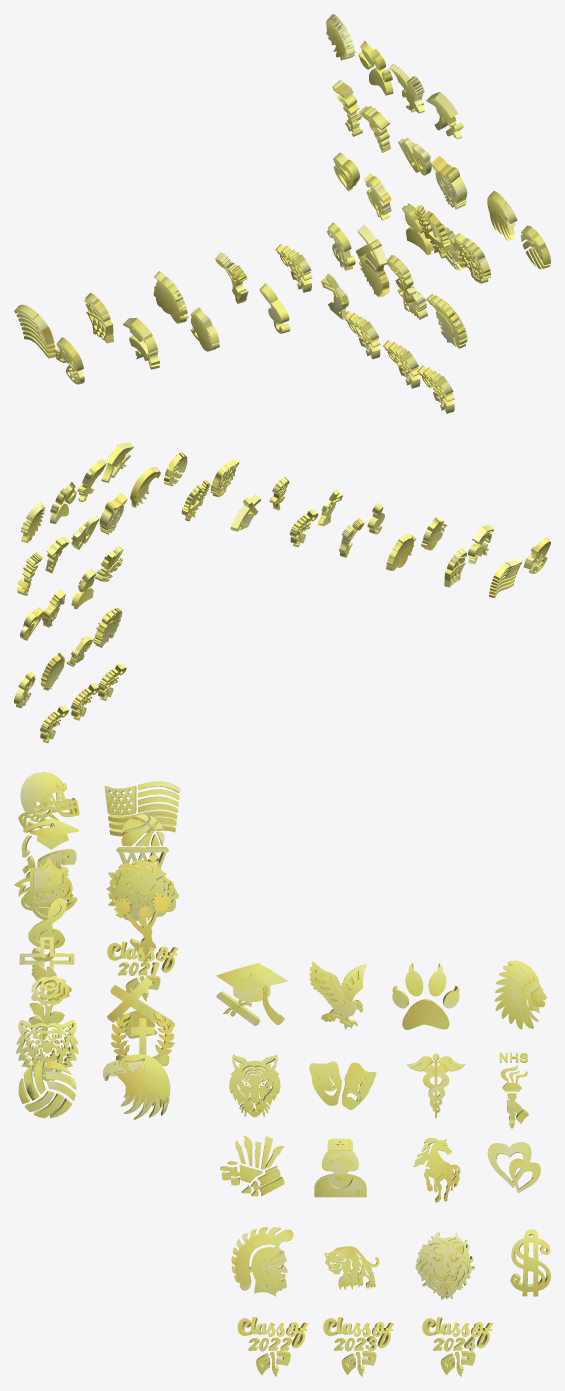
File: graphs.glb
3 renders of one model, top to bottom at view 1: azimuth 30°, elevation 25°; view 2: azimuth 150°, elevation 25°; view 3: azimuth 270°, elevation 25°, orthographic. The views are drawn at different scales.
Visible parts, largest first — view 1: graph_16, graph_21, graph_29, graph_14, graph_7, graph_2, graph_19, graph_9, graph_10, graph_15, graph_12, graph_34 (+21 smaller); view 2: graph_16, graph_21, graph_29, graph_17, graph_14, graph_9, graph_2, graph_19, graph_7, graph_11, graph_10, graph_8 (+21 smaller); view 3: graph_29, graph_16, graph_9, graph_31, graph_14, graph_17, graph_19, graph_20, graph_21, graph_2, graph_1, graph_8 (+23 smaller).
Boxes of the visible parts, x1=… form: graph_16: x1=14, y1=304, x2=55, y2=358; graph_21: x1=431, y1=155, x2=467, y2=209; graph_29: x1=426, y1=294, x2=467, y2=348; graph_14: x1=153, y1=271, x2=188, y2=323; graph_7: x1=123, y1=318, x2=159, y2=369; graph_2: x1=454, y1=233, x2=490, y2=283; graph_19: x1=358, y1=41, x2=393, y2=95; graph_9: x1=487, y1=191, x2=517, y2=240; graph_10: x1=414, y1=205, x2=451, y2=258; graph_15: x1=84, y1=292, x2=113, y2=343; graph_12: x1=275, y1=244, x2=312, y2=292; graph_34: x1=383, y1=340, x2=420, y2=388; graph_16: x1=489, y1=557, x2=522, y2=597; graph_21: x1=99, y1=493, x2=127, y2=534; graph_29: x1=93, y1=607, x2=122, y2=647; graph_17: x1=101, y1=442, x2=134, y2=482; graph_14: x1=386, y1=533, x2=415, y2=570; graph_9: x1=130, y1=467, x2=160, y2=507; graph_2: x1=210, y1=458, x2=239, y2=497; graph_19: x1=50, y1=482, x2=76, y2=523; graph_7: x1=468, y1=525, x2=494, y2=564; graph_11: x1=230, y1=494, x2=260, y2=531; graph_10: x1=181, y1=480, x2=210, y2=521; graph_8: x1=523, y1=537, x2=550, y2=573; graph_29: x1=231, y1=1227, x2=293, y2=1296; graph_16: x1=104, y1=781, x2=180, y2=836; graph_9: x1=103, y1=1054, x2=170, y2=1119; graph_31: x1=415, y1=1231, x2=474, y2=1299; graph_14: x1=106, y1=855, x2=178, y2=920; graph_17: x1=216, y1=963, x2=288, y2=1025; graph_19: x1=392, y1=963, x2=459, y2=1029; graph_20: x1=494, y1=960, x2=546, y2=1029; graph_21: x1=229, y1=1054, x2=280, y2=1117; graph_2: x1=16, y1=1020, x2=78, y2=1081; graph_1: x1=18, y1=1060, x2=76, y2=1118; graph_8: x1=18, y1=772, x2=79, y2=832.
Size of the model in its own units: 73.79 by 47.15 by 56.37.
Materials: 1 (1 with a texture image).
